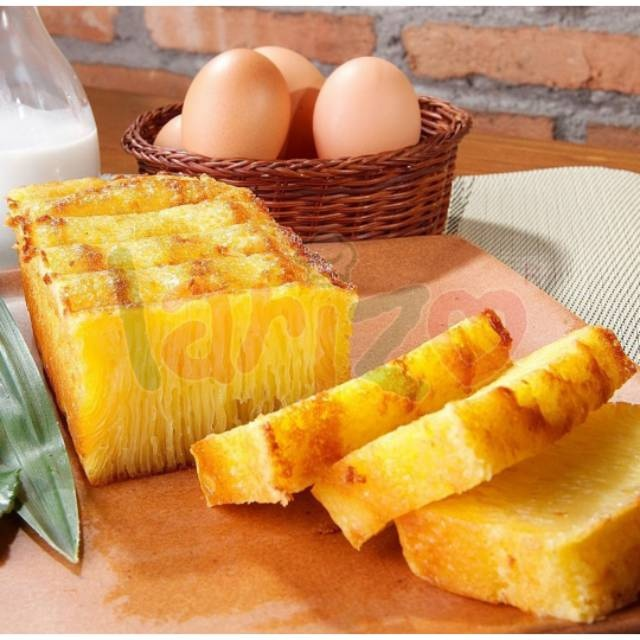bika_ambon: (54, 295, 378, 486)
